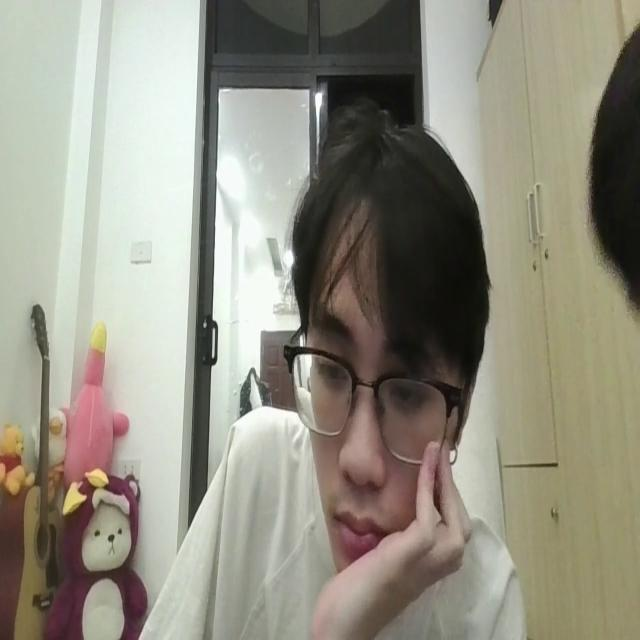student: (130, 99, 525, 640)
